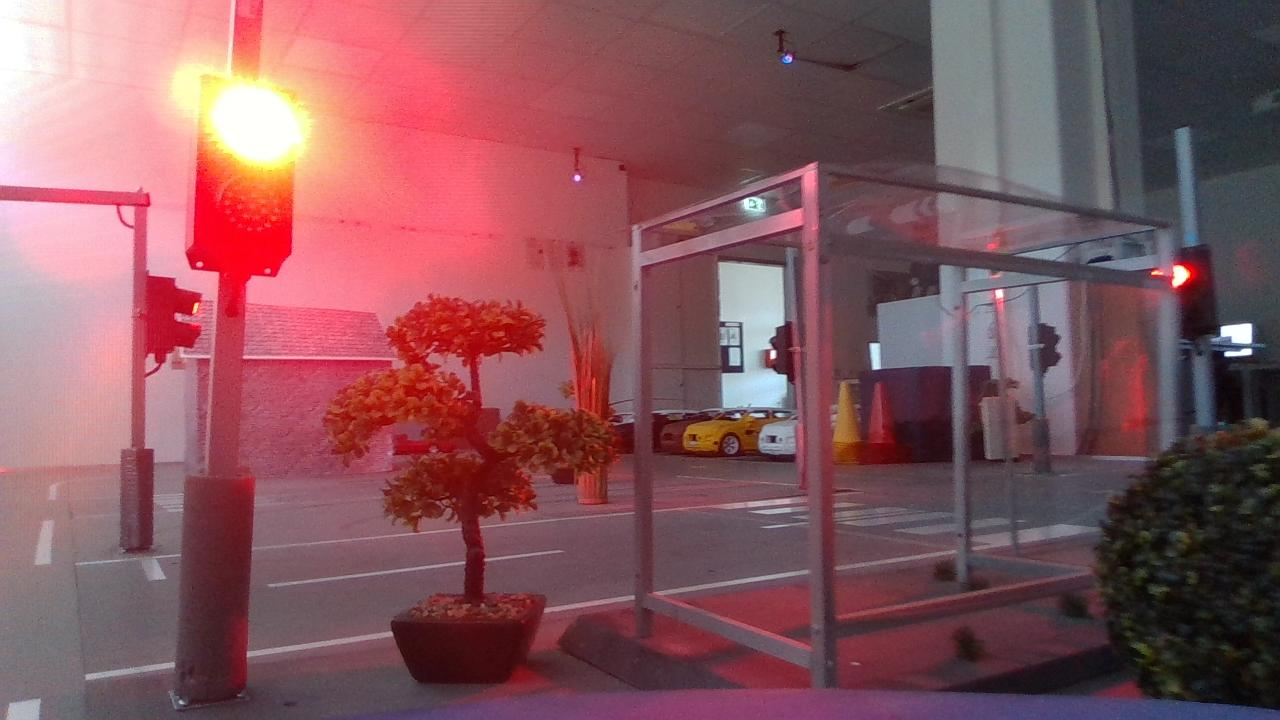traffic_light_red: (165, 55, 326, 292)
